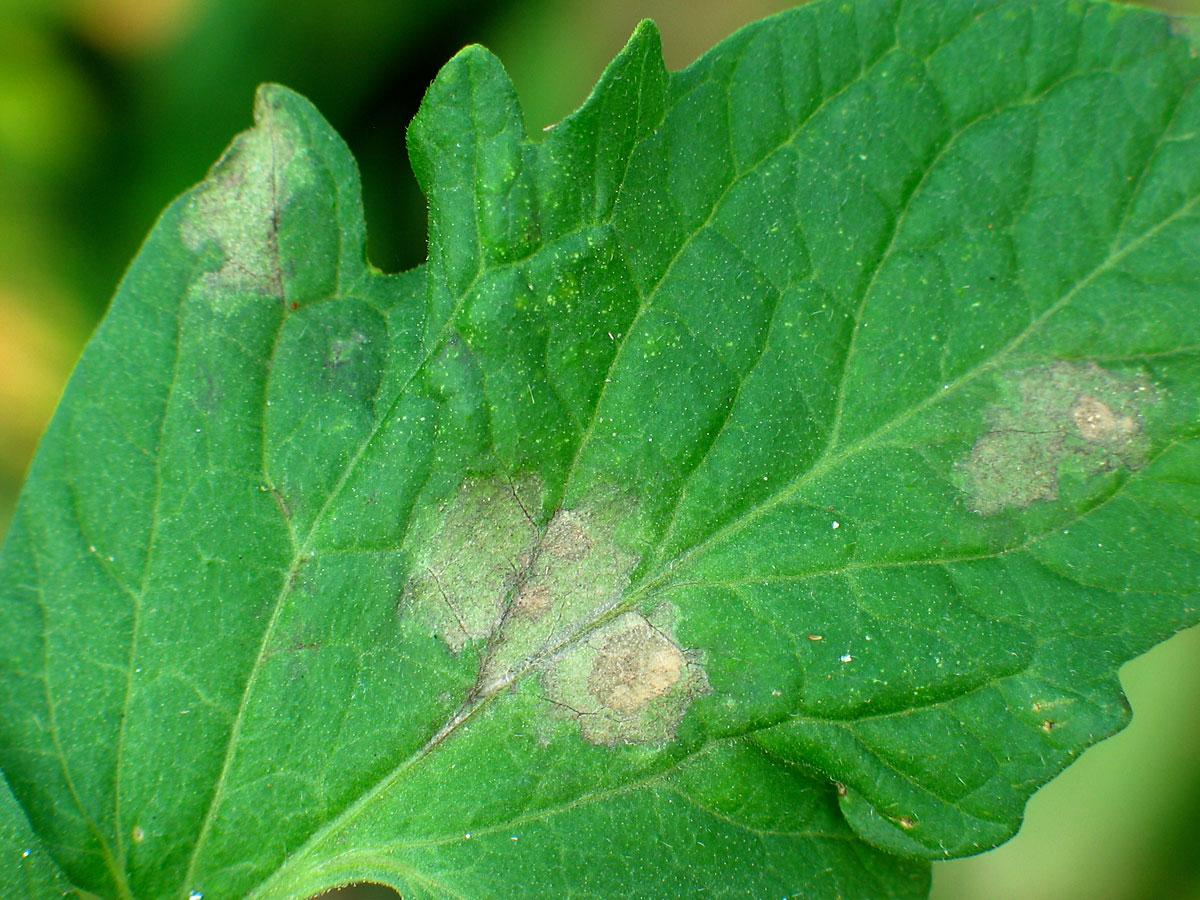Tomato leaf mosaic virus: (35, 15, 1194, 882)
